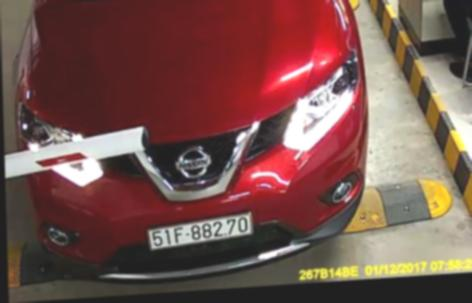License_Plate: (142, 214, 259, 249)
